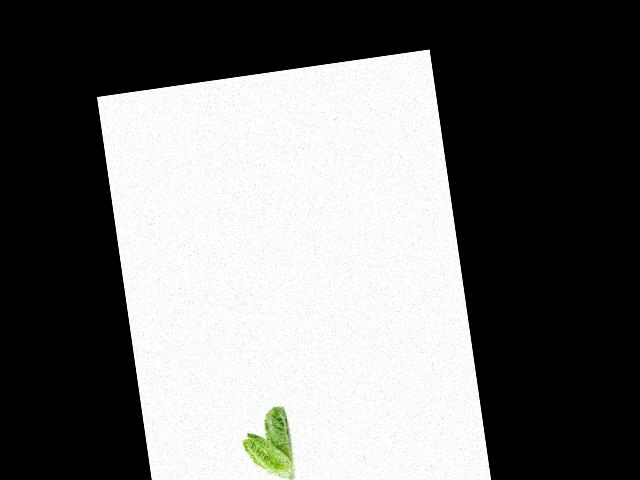lettuce: (259, 399, 298, 467)
